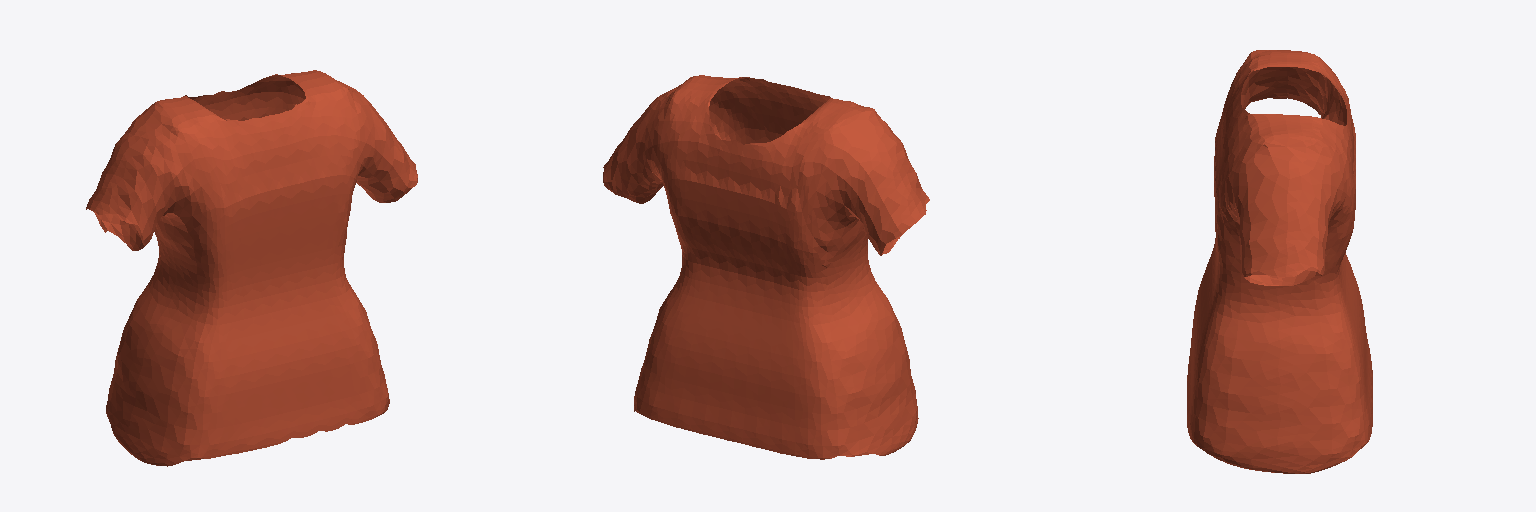
Rendered from male_shirt.obj.
3 renders of one model, left to right at view 1: azimuth 30°, elevation 25°; view 2: azimuth 150°, elevation 25°; view 3: azimuth 270°, elevation 25°, orthographic.
Visible parts, largest first — view 1: Plane01; view 2: Plane01; view 3: Plane01.
Part boxes in pixels (left/top/right/bottom): Plane01: left=86, top=70, right=417, bottom=466; Plane01: left=603, top=75, right=929, bottom=459; Plane01: left=1187, top=50, right=1372, bottom=473.
Bounding box in the file's own units: 3.28 × 3.27 × 1.68.